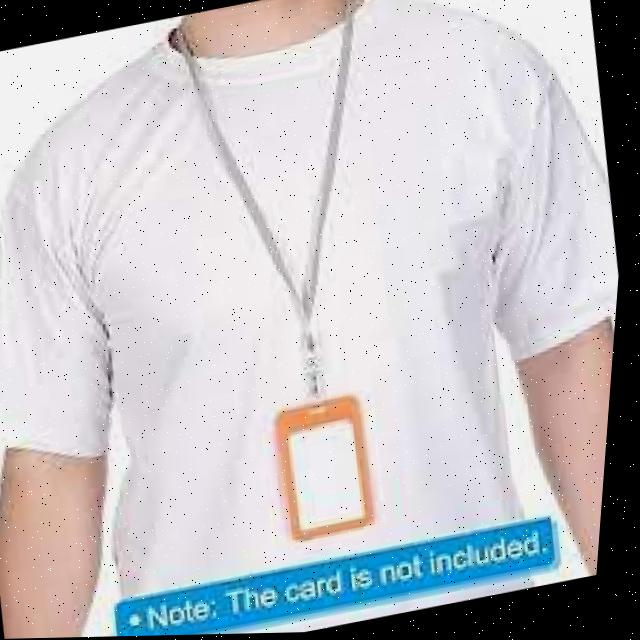id_card: (137, 4, 459, 571)
